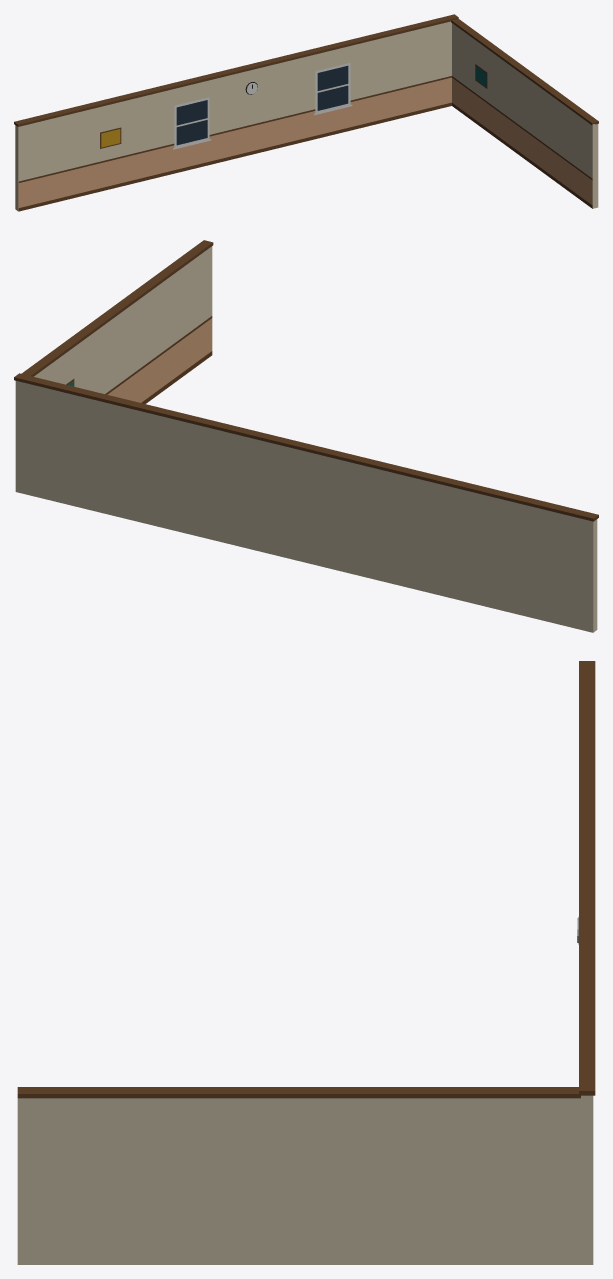
File: bld_room_care.glb
3 renders of one model, top to bottom at view 1: azimuth 30°, elevation 25°; view 2: azimuth 150°, elevation 25°; view 3: azimuth 270°, elevation 25°, orthographic. The views are drawn at different scales.
Parts seen in each view (by area): view 1: body; view 2: body; view 3: body.
Boxes of the visible parts, x1=… form: body: x1=14, y1=14, x2=598, y2=211; body: x1=14, y1=240, x2=598, y2=632; body: x1=17, y1=661, x2=595, y2=1264.
Bounding box in the file's own units: 16.26 × 3.08 × 9.23.
